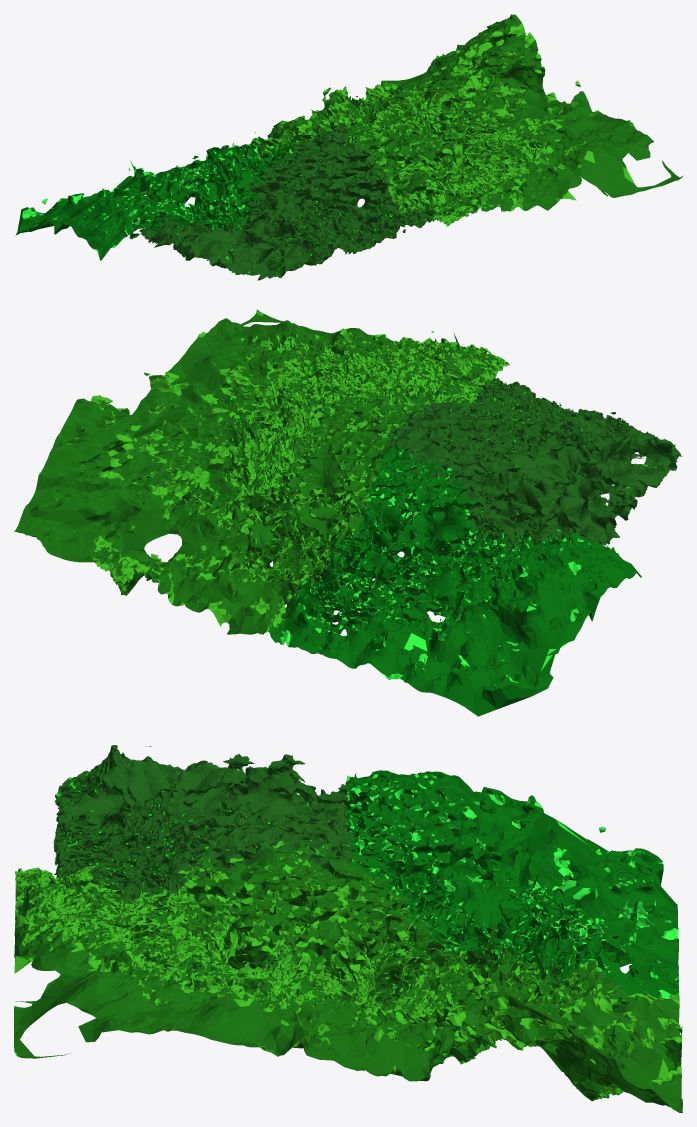
The model's file is grass3.fbx.
The picture shows the model from 3 angles, top to bottom: view 1: azimuth 30°, elevation 25°; view 2: azimuth 150°, elevation 25°; view 3: azimuth 270°, elevation 25°; orthographic projection. The views are drawn at different scales.
Parts seen in each view (by area): view 1: Tile_1, Tile_3, Tile_2; view 2: Tile_1, Tile_2, Tile_3; view 3: Tile_1, Tile_2, Tile_3.
Part boxes in pixels (left/top/right/bottom): Tile_1: left=224, top=14, right=682, bottom=226; Tile_3: left=139, top=124, right=433, bottom=280; Tile_2: left=15, top=123, right=332, bottom=260; Tile_1: left=14, top=309, right=509, bottom=634; Tile_2: left=267, top=435, right=641, bottom=716; Tile_3: left=386, top=378, right=682, bottom=553; Tile_1: left=14, top=833, right=682, bottom=1112; Tile_2: left=345, top=770, right=679, bottom=998; Tile_3: left=53, top=745, right=353, bottom=903.
Size of the model in its own units: 4613 by 1398 by 3843.
